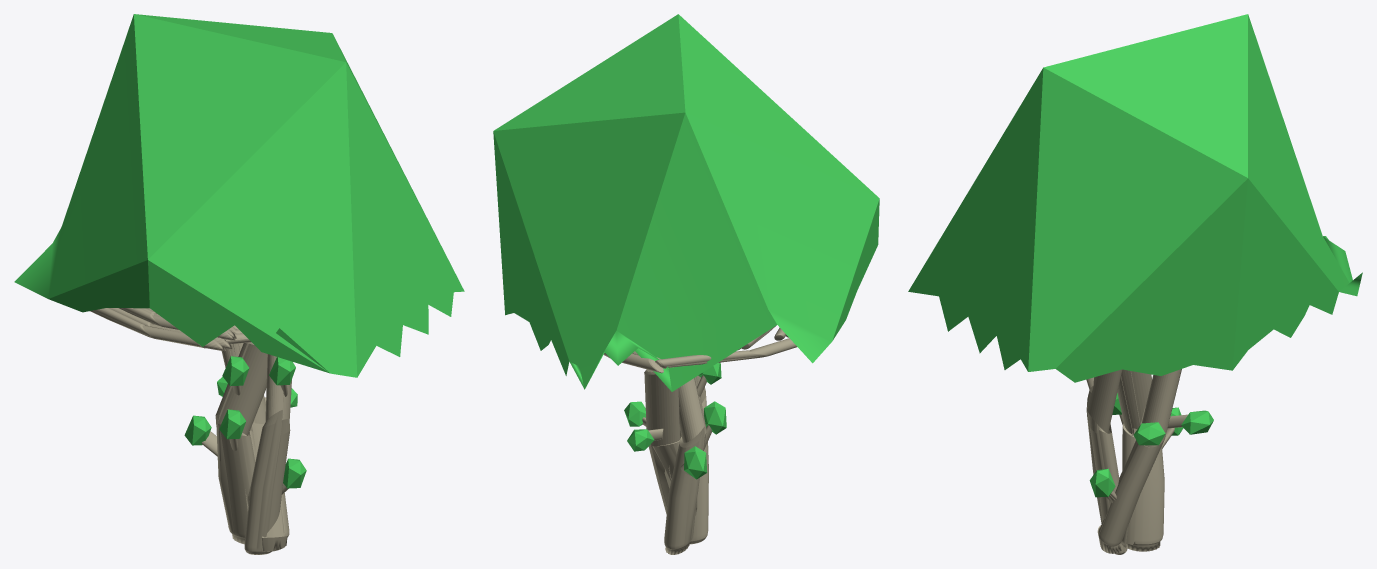
Rendered from BigTree (1).fbx.
3 renders of one model, left to right at view 1: azimuth 30°, elevation 25°; view 2: azimuth 150°, elevation 25°; view 3: azimuth 270°, elevation 25°, orthographic. The views are drawn at different scales.
Visible parts, largest first — view 1: Tree1; view 2: Tree1; view 3: Tree1.
Boxes of the visible parts, x1=… form: Tree1: x1=14, y1=14, x2=464, y2=554; Tree1: x1=493, y1=14, x2=879, y2=554; Tree1: x1=908, y1=14, x2=1362, y2=554.
Bounding box in the file's own units: 23.55 × 32.71 × 26.61.
